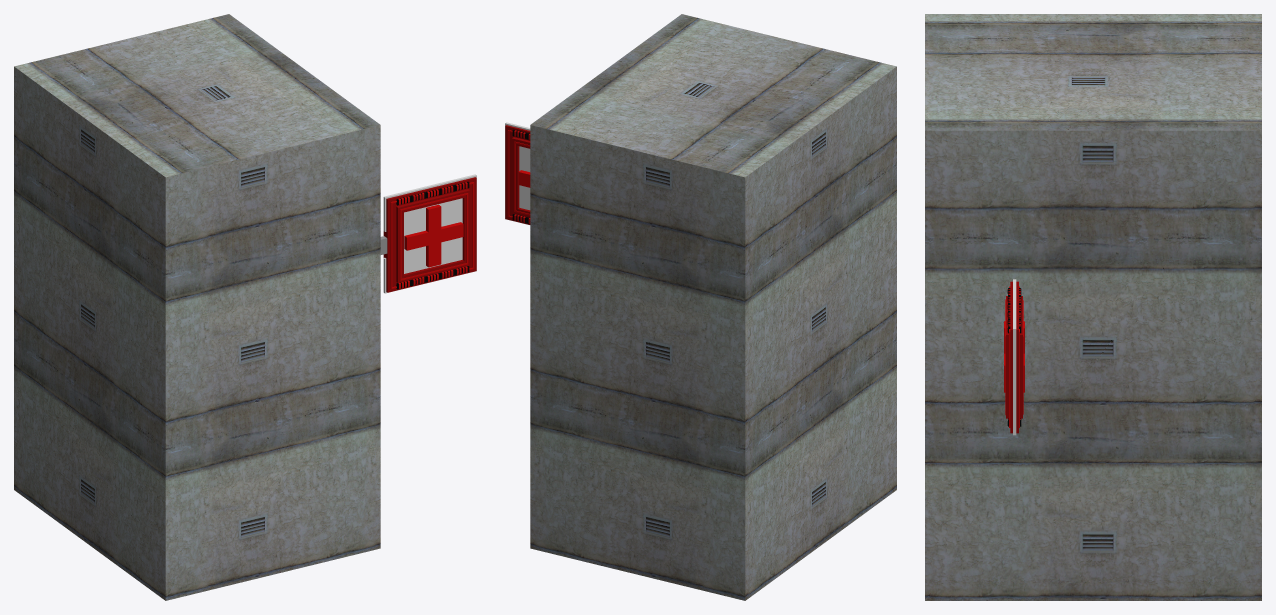
The model's file is fbxSign.fbx.
The picture shows the model from 3 angles, left to right: view 1: azimuth 30°, elevation 25°; view 2: azimuth 150°, elevation 25°; view 3: azimuth 270°, elevation 25°; orthographic projection. The views are drawn at different scales.
Parts seen in each view (by area): view 1: wall, sign, lights; view 2: wall, sign; view 3: wall, sign.
Boxes of the visible parts, left/top/right/bottom form: wall: left=14, top=14, right=380, bottom=600; sign: left=380, top=174, right=476, bottom=293; lights: left=396, top=181, right=469, bottom=289; wall: left=530, top=14, right=896, bottom=600; sign: left=505, top=122, right=530, bottom=224; wall: left=925, top=14, right=1261, bottom=600; sign: left=1004, top=279, right=1024, bottom=435.
Size of the model in its own units: 20.98 by 24.21 by 15.71.
Materials: 6 (1 with a texture image).
